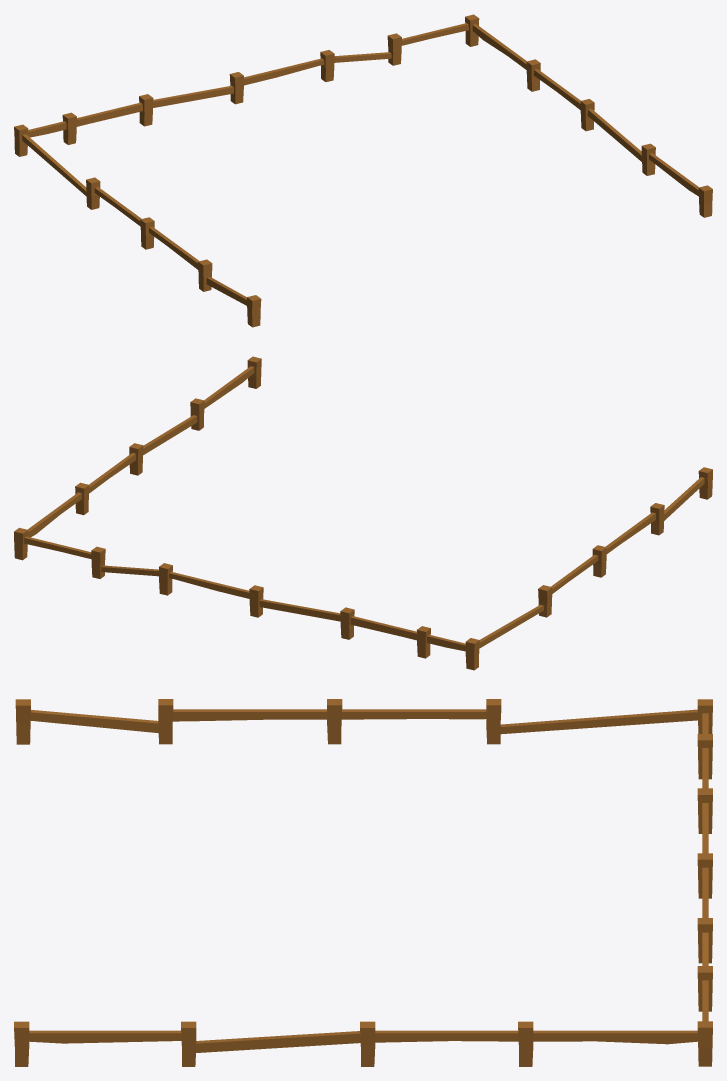
Rendered from fence002.fbx.
3 views of the same model, one above another, from view 1: azimuth 30°, elevation 25°; view 2: azimuth 150°, elevation 25°; view 3: azimuth 270°, elevation 25° (orthographic). The views are drawn at different scales.
Visible parts, largest first — view 1: fence002; view 2: fence002; view 3: fence002.
Boxes of the visible parts, <box> form: fence002: <box>14,14,712,327</box>; fence002: <box>14,356,712,670</box>; fence002: <box>14,699,712,1066</box>.
Size of the model in its own units: 4779 by 267 by 4292.
